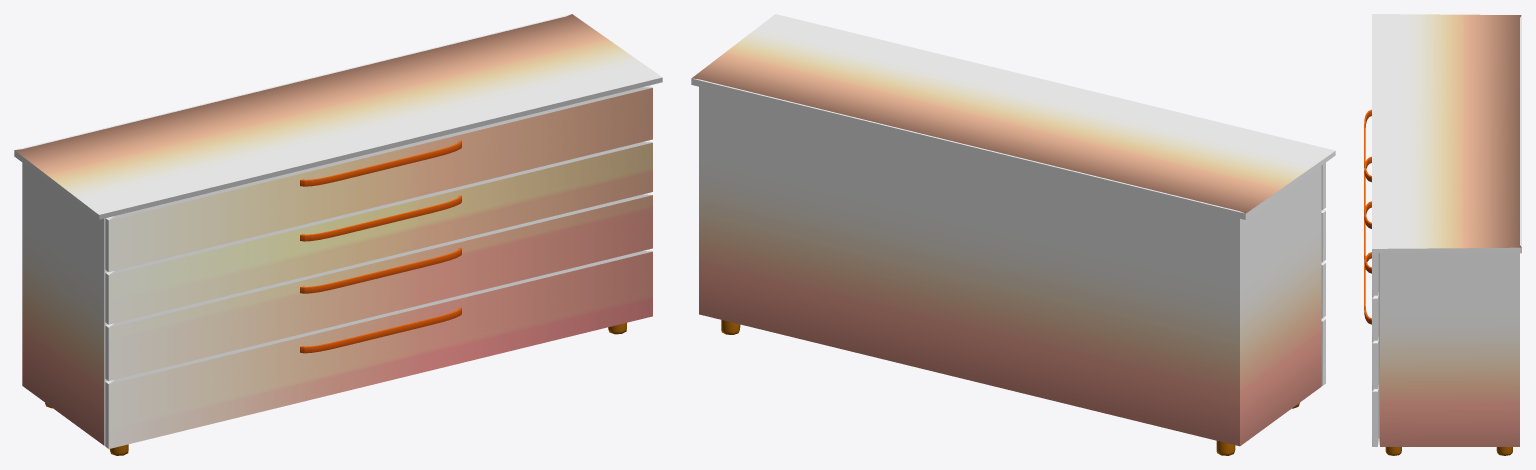
The model's file is Cajon1.fbx.
3 renders of one model, left to right at view 1: azimuth 30°, elevation 25°; view 2: azimuth 150°, elevation 25°; view 3: azimuth 270°, elevation 25°, orthographic. The views are drawn at different scales.
Visible parts, largest first — view 1: Cajon1.001; view 2: Cajon1.001; view 3: Cajon1.001.
Part boxes in pixels (x1,y1,x2,y2): Cajon1.001: (14,14,662,455); Cajon1.001: (691,14,1335,455); Cajon1.001: (1364,14,1521,455).
Size of the model in its own units: 15.02 by 6.5 by 4.26.
Materials: 1 (1 with a texture image).
